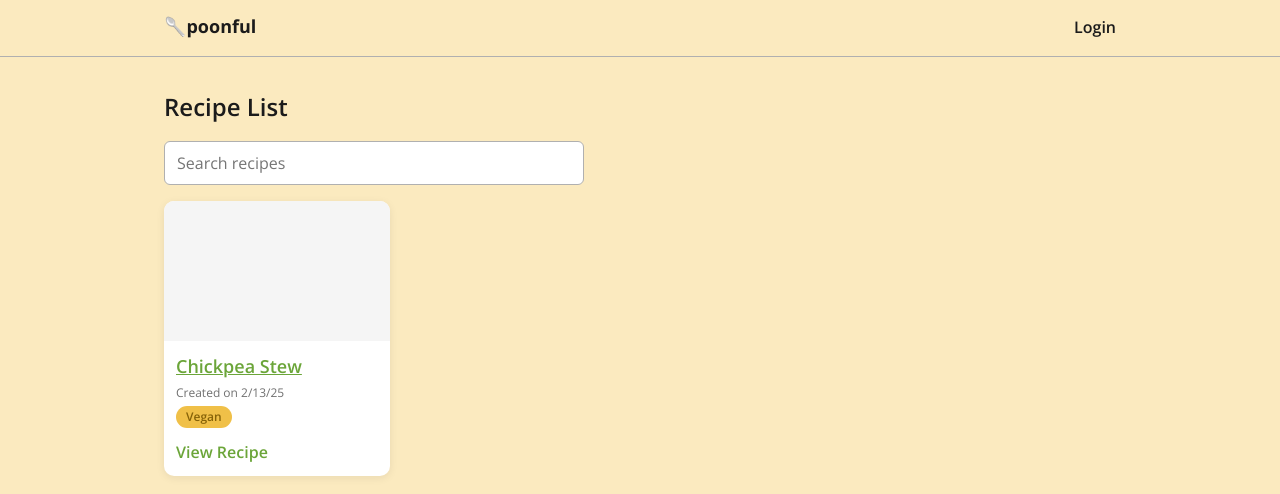
Test: RecipeList › shows a message when no recipes match the search
Expected: the heading "Chickpea Stew" is shown, top-left (176, 354), bottom-right (302, 378)
Type "nonexistent" into the search field labelled "Search recipes" at (374, 163), box top-left (164, 141), bottom-right (584, 185)
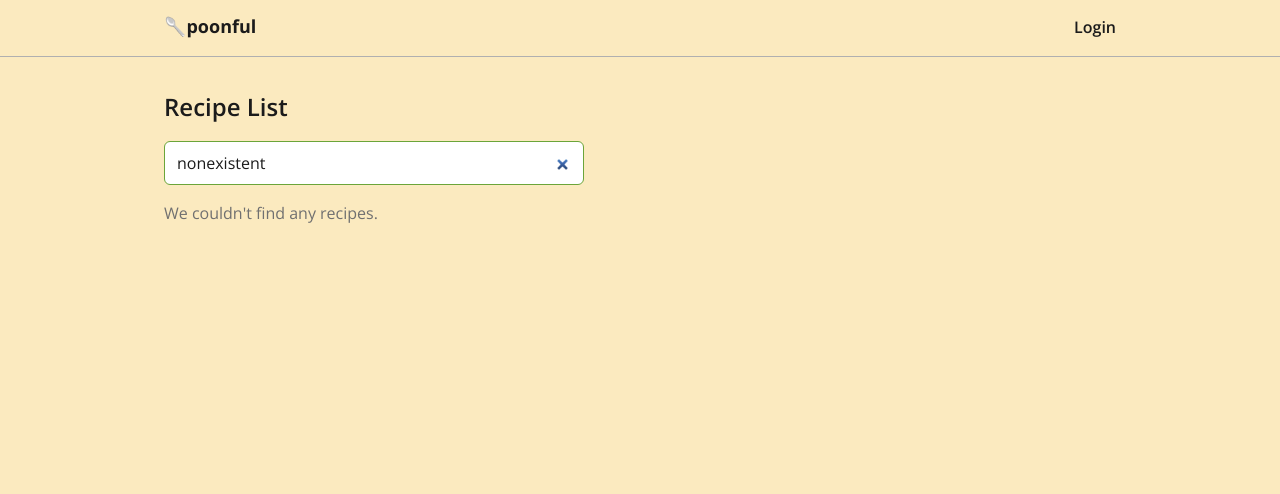
Expected: the text "We couldn't find any recipes." is shown, top-left (164, 202), bottom-right (378, 224)
